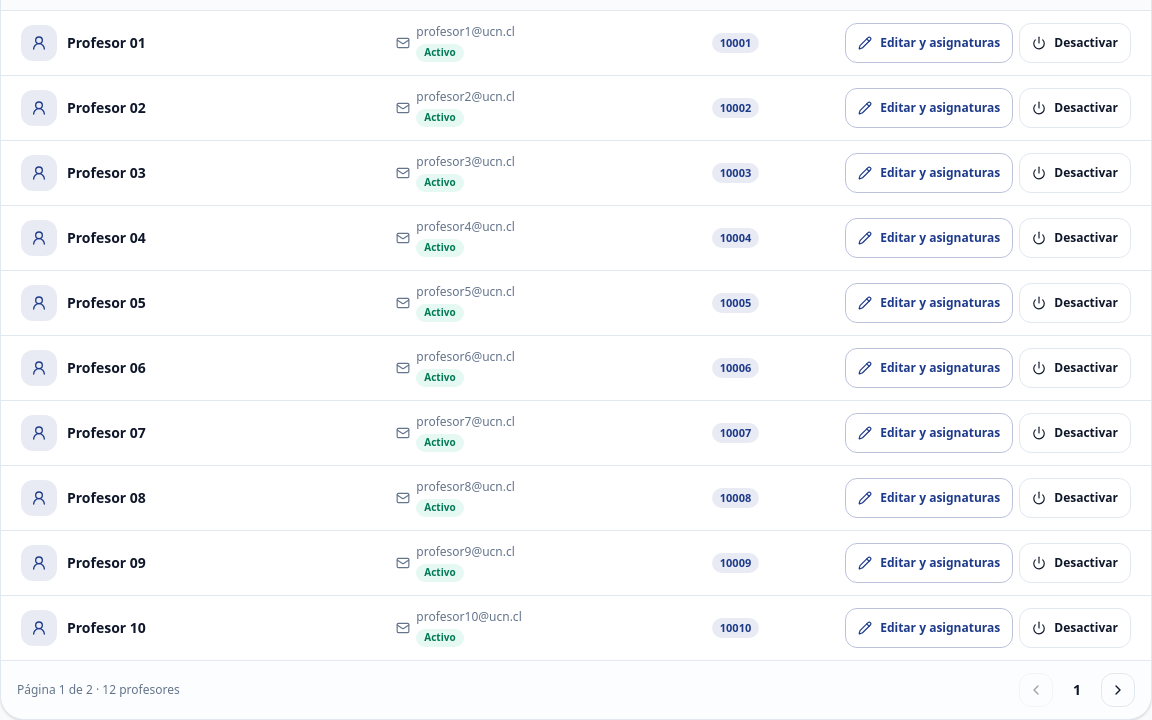
Test case: TeachersPage (padrón de profesores) › busca por nombre, correo o NRC y pagina de a 10
(page scrolled)
Expected: the text "Profesor 01" is shown, [67, 33, 146, 53]
Expected: the text "Profesor 11" is not shown
Click the button named "Página siguiente" at (1118, 690), box [1101, 673, 1135, 707]
(page scrolled)
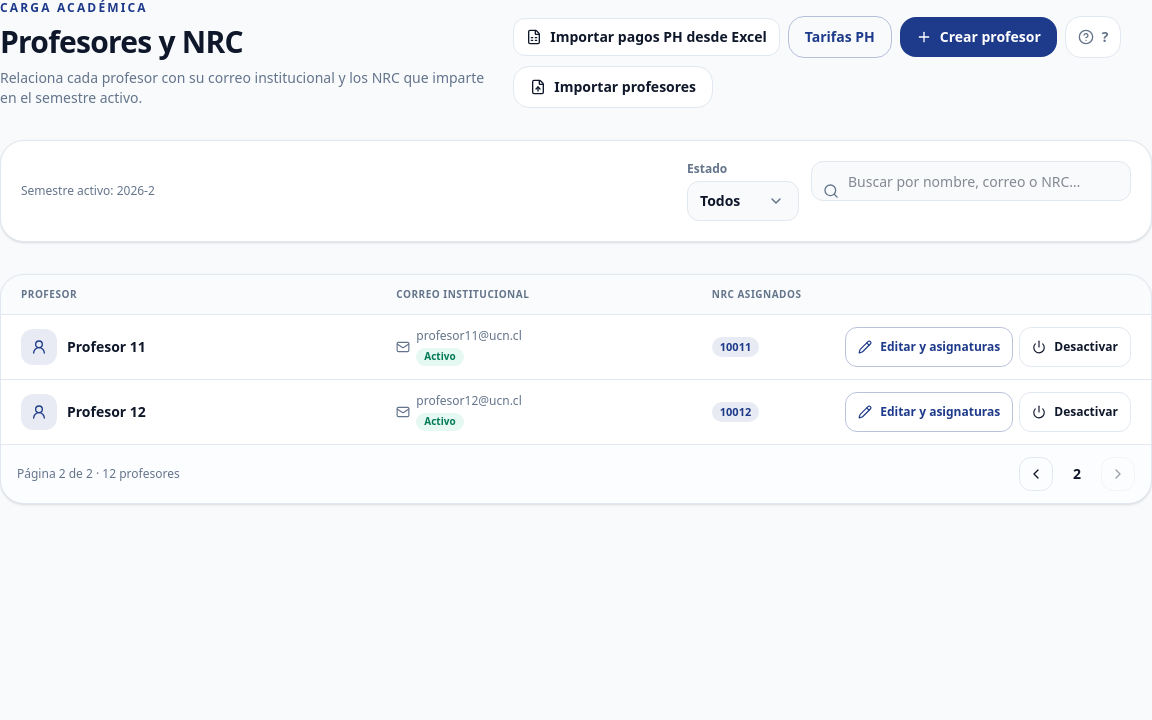
Expected: the text "Profesor 11" is shown, [67, 337, 146, 357]
Type "10005" into the search field with placeholder "Buscar por nombre, correo o NRC…" at (971, 181), box [811, 161, 1131, 201]
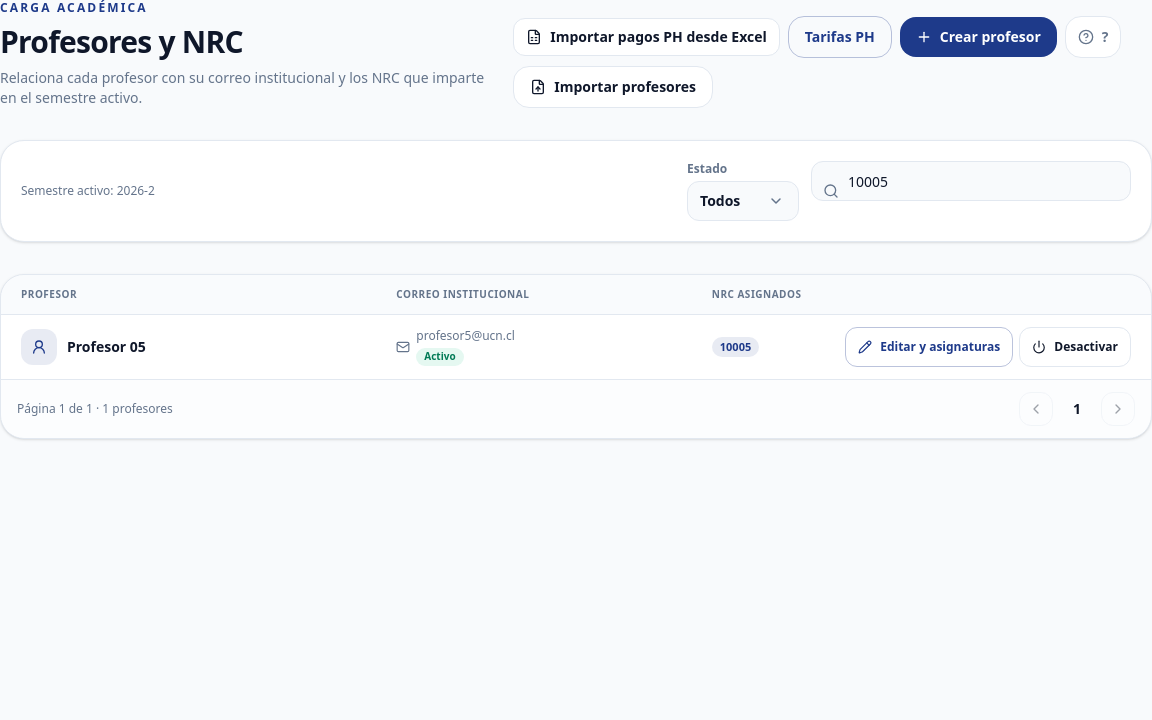
Expected: the text "Profesor 05" is shown, [67, 337, 146, 357]
Expected: the text "Página 1 de 1 · 1 profesores" is shown, [17, 401, 173, 417]
Replace the text in the search field with placeholder "Buscar por nombre, correo o NRC…" with "nadie" at (971, 181), box [811, 161, 1131, 201]
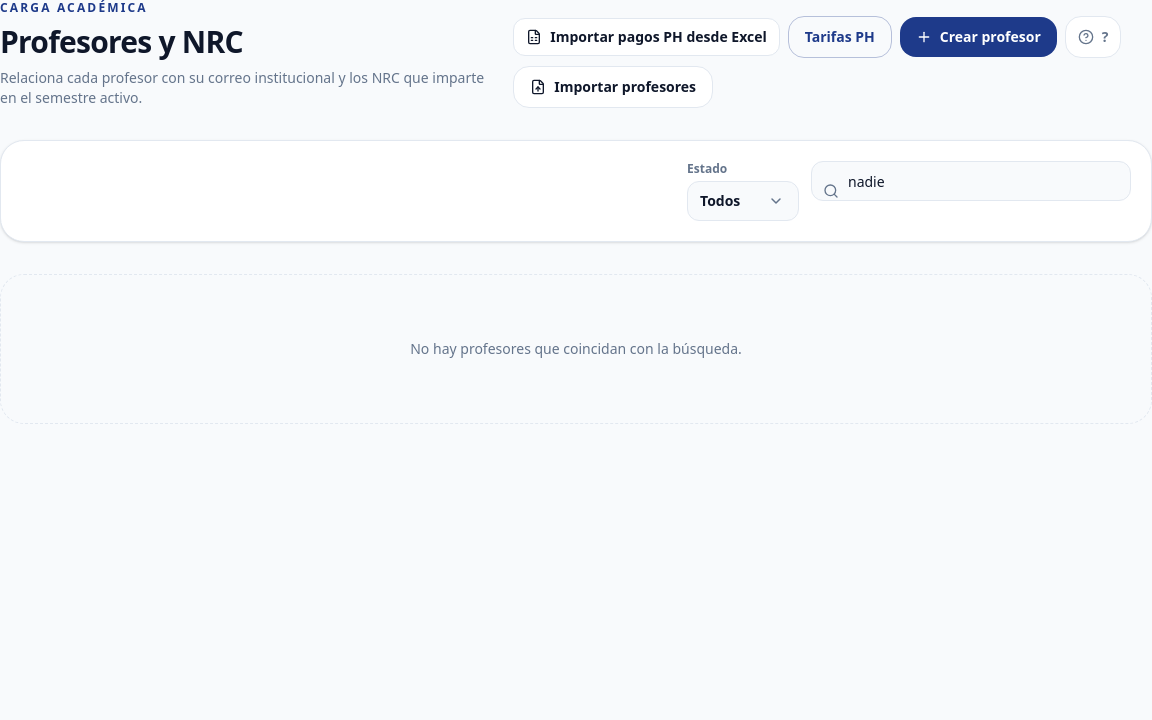
Expected: the text "No hay profesores que coincidan con la búsqueda." is shown, [0, 274, 1151, 424]
